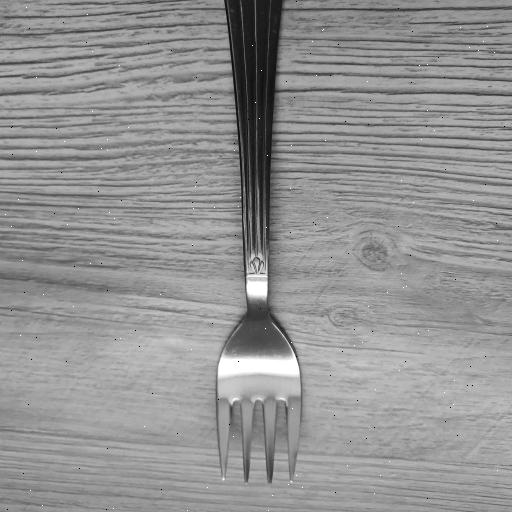fork: (210, 0, 304, 487)
